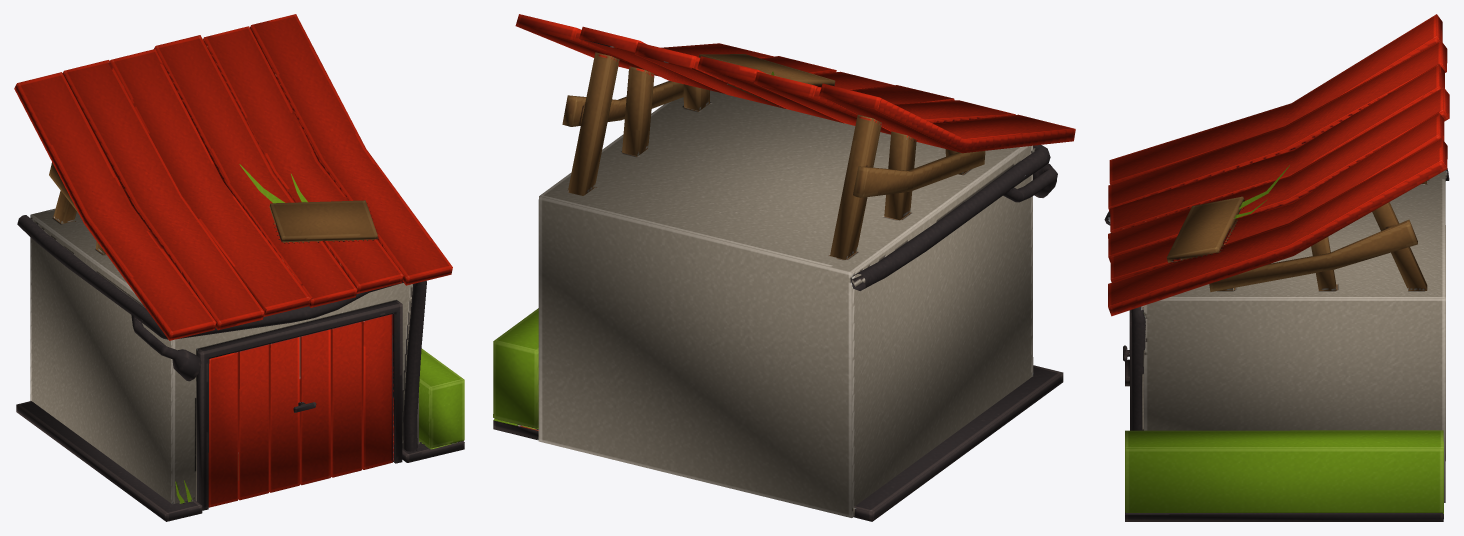
File: garage1_LOD0.fbx
3 renders of one model, left to right at view 1: azimuth 30°, elevation 25°; view 2: azimuth 150°, elevation 25°; view 3: azimuth 270°, elevation 25°, orthographic. The views are drawn at different scales.
Visible parts, largest first — view 1: garage1_LOD0; view 2: garage1_LOD0; view 3: garage1_LOD0.
Part boxes in pixels (bbox=[...]): garage1_LOD0: bbox=[14, 14, 464, 521]; garage1_LOD0: bbox=[493, 14, 1075, 521]; garage1_LOD0: bbox=[1104, 14, 1449, 521].
Size of the model in its own units: 486 by 514 by 455.
